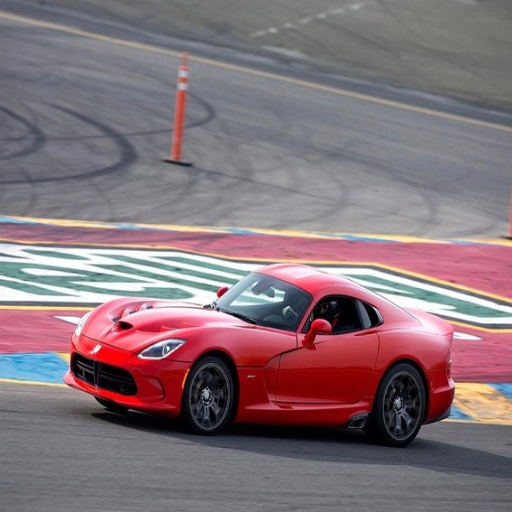back_bumper: (321, 89, 492, 154)
back_glass: (417, 264, 504, 310)
front_glass: (229, 277, 297, 327)
trunk: (62, 42, 176, 147), (77, 314, 161, 398)
